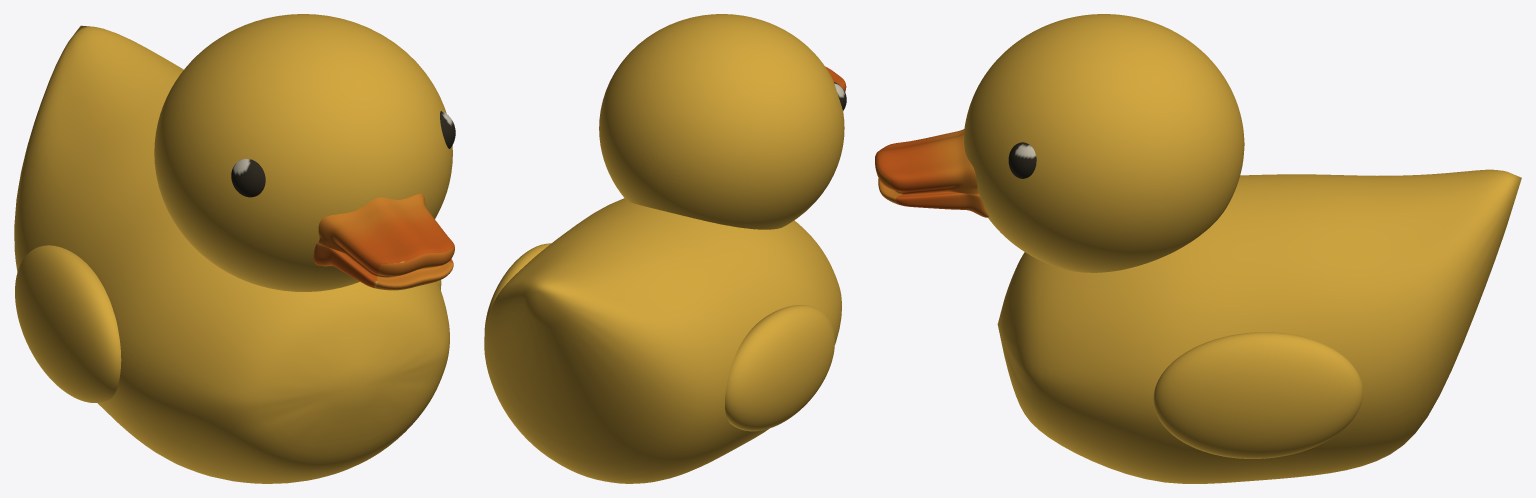
File: rubber_ducky.fbx
The picture shows the model from 3 angles, left to right: view 1: azimuth 30°, elevation 25°; view 2: azimuth 150°, elevation 25°; view 3: azimuth 270°, elevation 25°; orthographic projection. The views are drawn at different scales.
Parts seen in each view (by area): view 1: pSphere11; view 2: pSphere11; view 3: pSphere11.
Part boxes in pixels (x1=…): pSphere11: x1=14, y1=14, x2=455, y2=483; pSphere11: x1=484, y1=14, x2=846, y2=483; pSphere11: x1=875, y1=14, x2=1521, y2=483.
Size of the model in its own units: 12.27 by 15.15 by 20.25.
